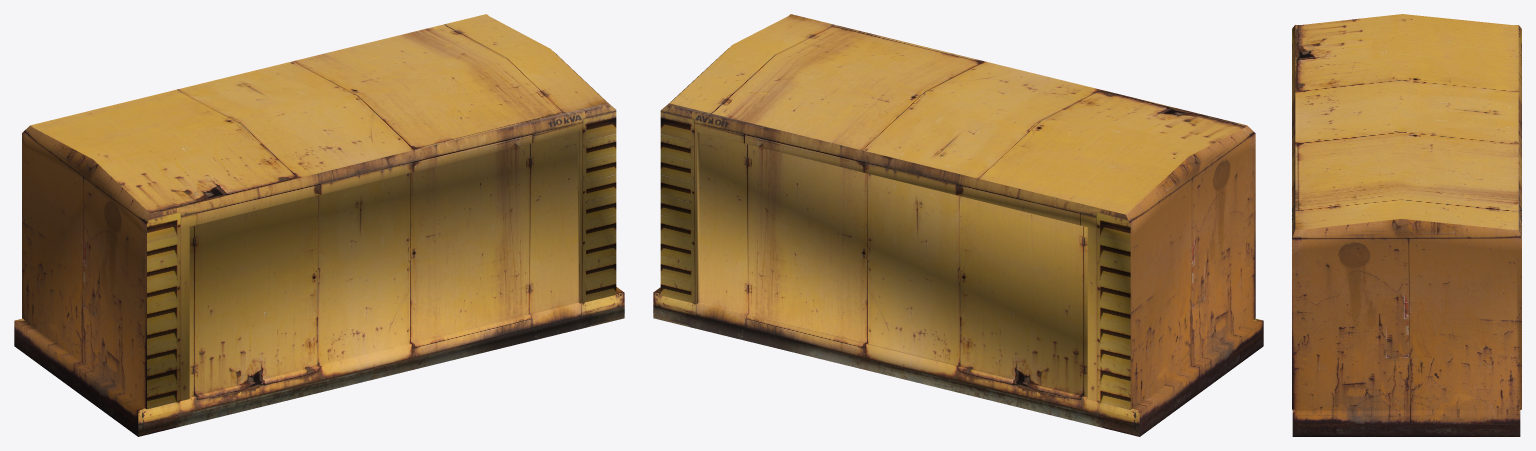
Rendered from waste_container.obj.
3 views of the same model, side by side, from view 1: azimuth 30°, elevation 25°; view 2: azimuth 150°, elevation 25°; view 3: azimuth 270°, elevation 25° (orthographic). The views are drawn at different scales.
Visible parts, largest first — view 1: waste_container; view 2: waste_container; view 3: waste_container.
Boxes of the visible parts, x1,y1,x2,y2 form: waste_container: (14,14,624,436); waste_container: (653,14,1263,436); waste_container: (1292,14,1521,436).
Bounding box in the file's own units: 179 × 80.79 × 79.55.
Materials: 1 (1 with a texture image).
